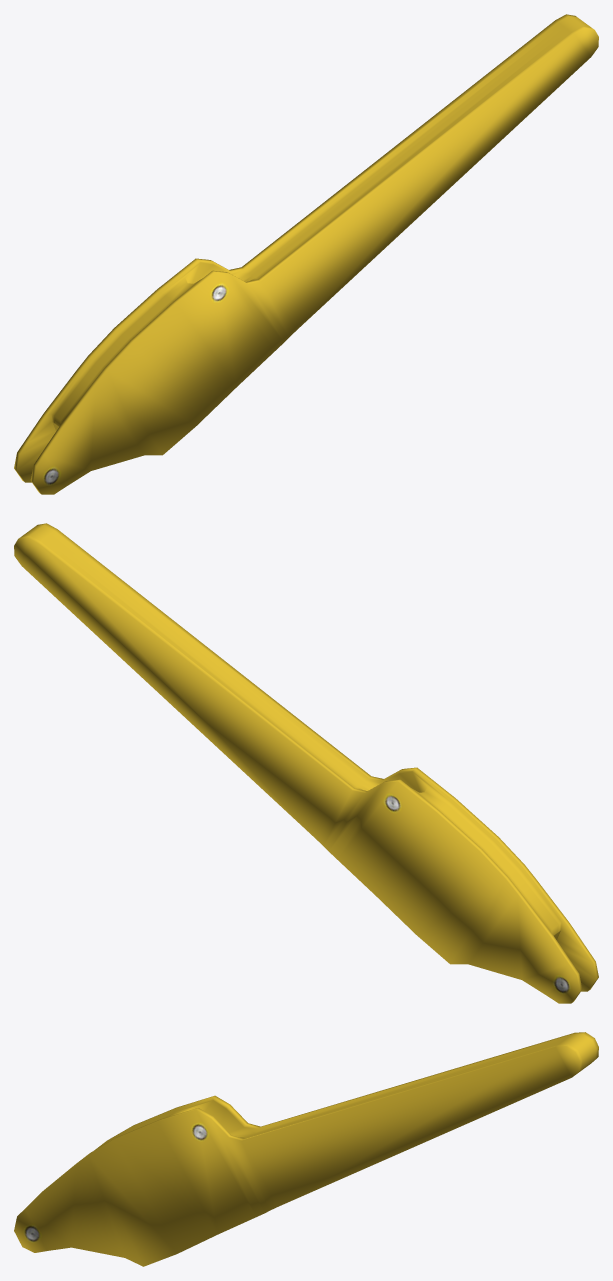
Rendered from stick.dae.
3 views of the same model, one above another, from view 1: azimuth 30°, elevation 25°; view 2: azimuth 150°, elevation 25°; view 3: azimuth 330°, elevation 25° (orthographic).
Visible parts, largest first — view 1: Plane; view 2: Plane; view 3: Plane.
Boxes of the visible parts, x1,y1,x2,y2 form: Plane: [14, 14, 598, 494]; Plane: [14, 523, 598, 1003]; Plane: [14, 1032, 598, 1266].
Size of the model in its own units: 3.04 by 0.1806 by 1.73.
1 material, 1 textured.
